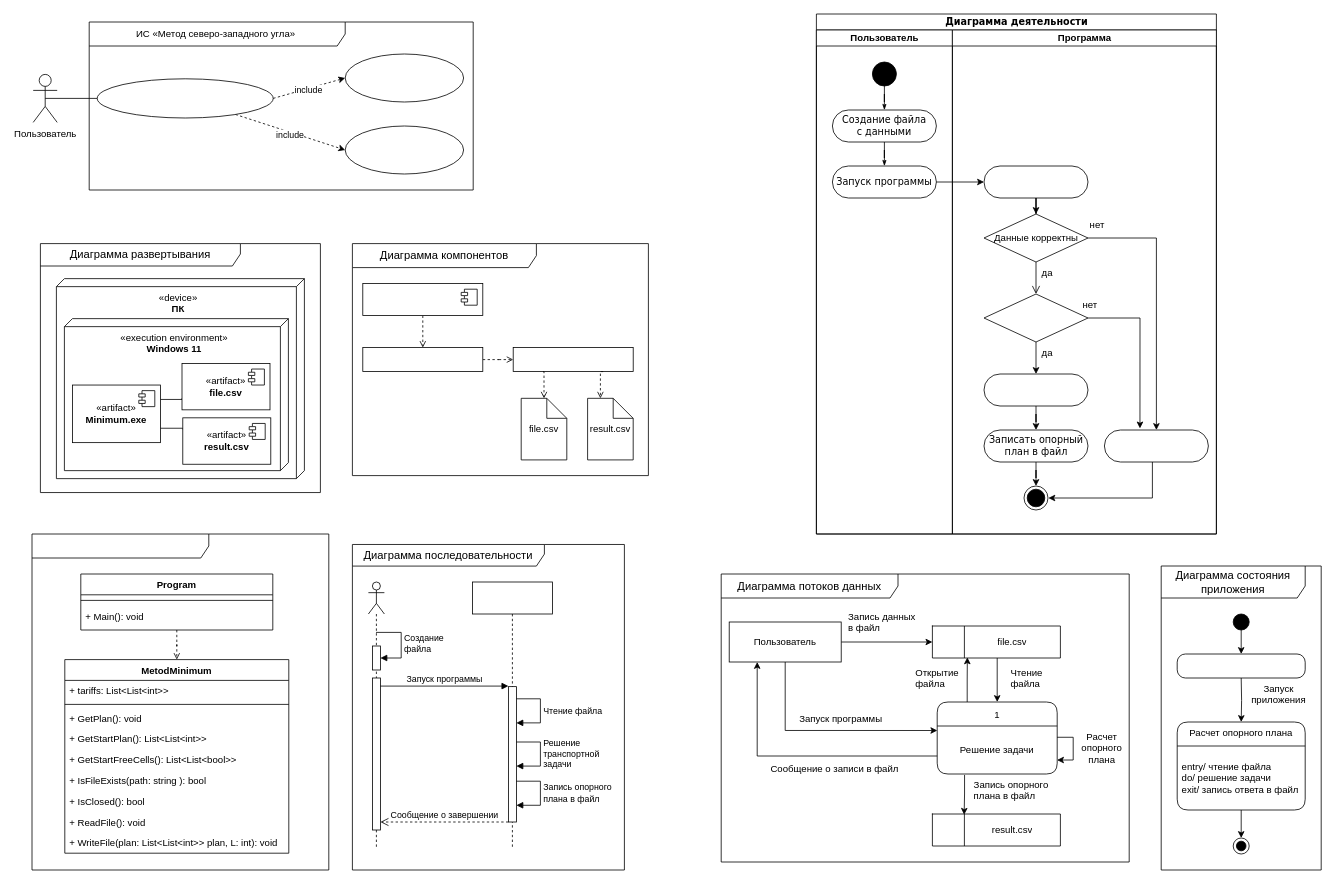
Some shapes in this 1335 by 884 pixel diagram are drawn without their labels. The centre of each missing label's shape, as x and y in pixels:
":Приложение" goes at (x=512, y=714).
"class MetodMinimum" goes at (x=572, y=359).
"class Program" goes at (x=422, y=359).
"Minimum.exe" goes at (x=422, y=299).
"Выключен" goes at (x=1240, y=665).
"Диаграмма класов" goes at (x=180, y=701).
"Задача закрытая" goes at (x=1035, y=317).
"Запустить программу, расчитывающую опорный план" goes at (x=184, y=98).
"Получить опорный план в файл result.csv" goes at (x=404, y=149).
"Прервать работу" goes at (x=1156, y=445).
"Прочитать файл" goes at (x=1035, y=181).
"Решить задачу" goes at (x=1035, y=389).
"Создать file.csv с матрицей перевозок" goes at (x=404, y=77).
